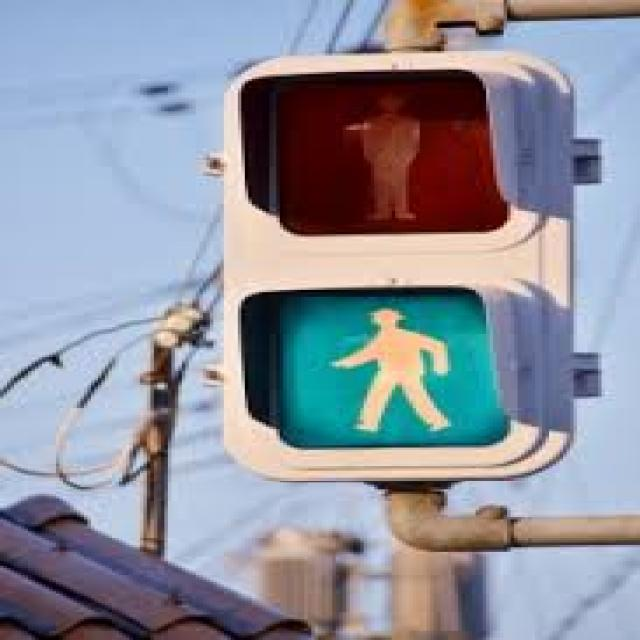trafficlight: (213, 51, 570, 473)
